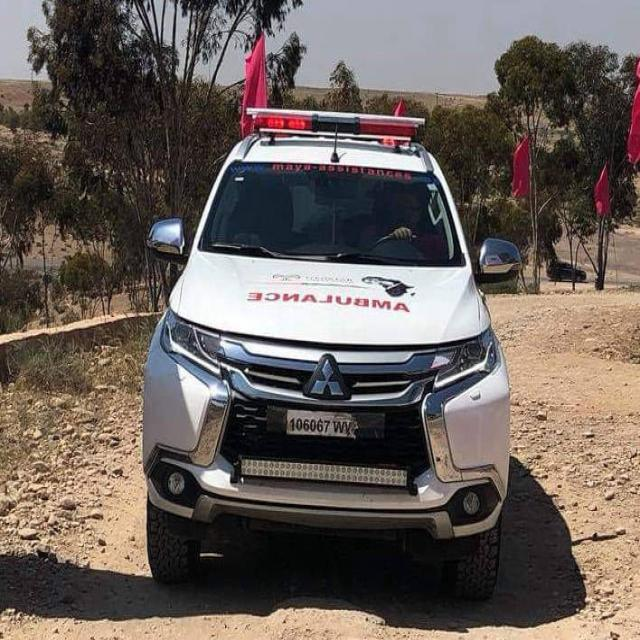ambulance: (140, 100, 514, 598)
